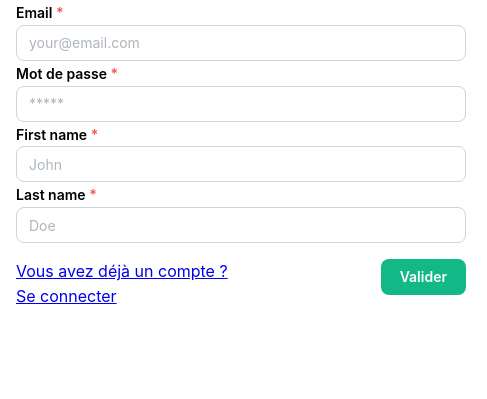
Test: le composant SignupForm › affiche les erreurs de validation et n'appelle pas handleSignup quand le formulaire est vide
What coordinates should you click on to do the following:
click the button "Valider"
I would click on:
 (423, 277)
Its box is [381,259,466,295].
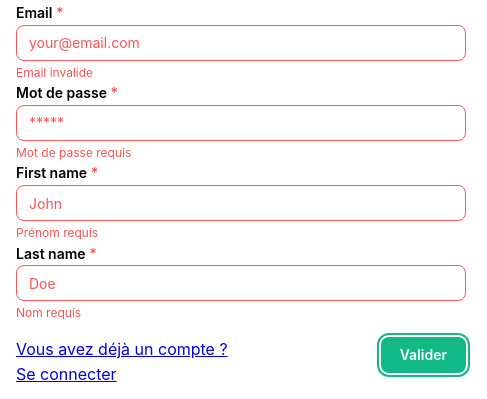
Check: the text "Email invalide" is shown, box [16,65,93,80]
Check: the text "Mot de passe requis" is shown, box [16,145,131,160]
Check: the text "Prénom requis" is shown, box [16,225,98,240]
